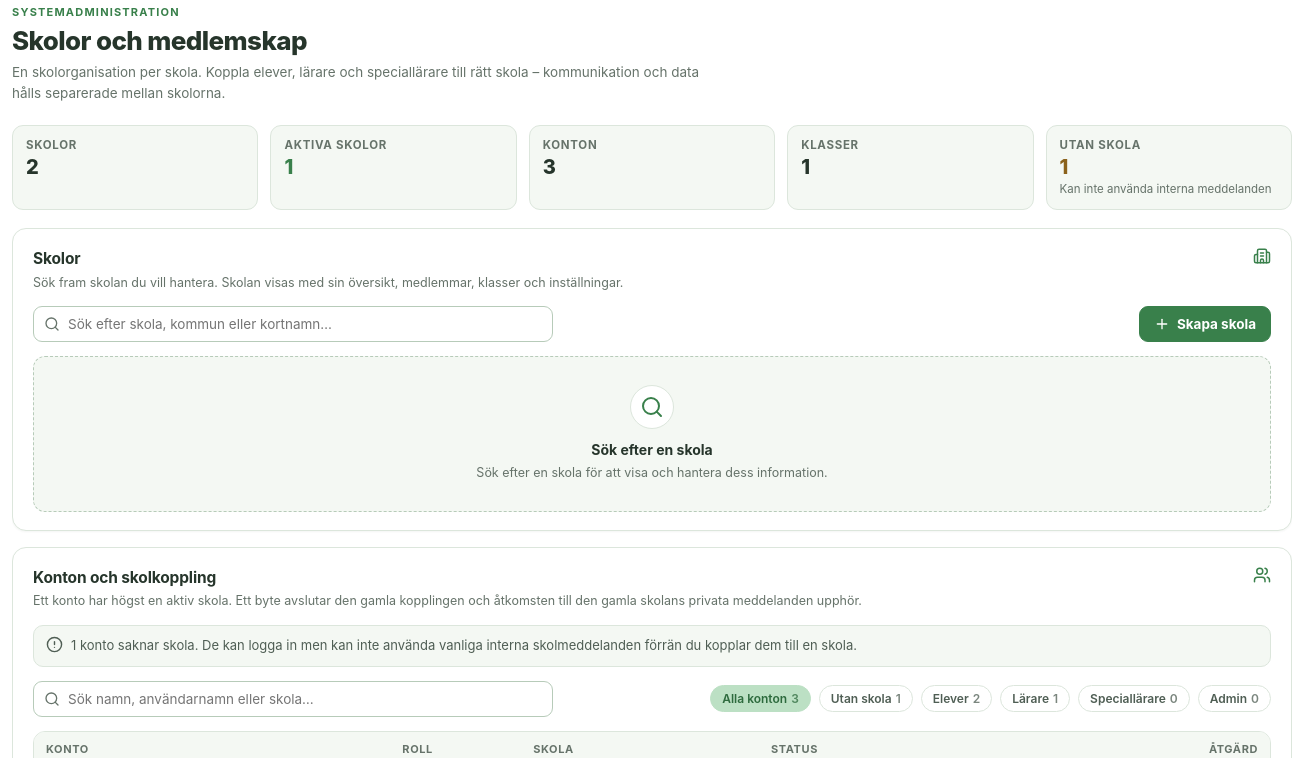
Scenario: AdminOrganisations › söker fram skola på namn och kommun
Expected: the heading "Sök efter en skola" is shown, [591,441,713,458]
Step 1. Type "karlskrona" into the search field named "Sök skola" → point(305, 324), box [68,307,542,341]
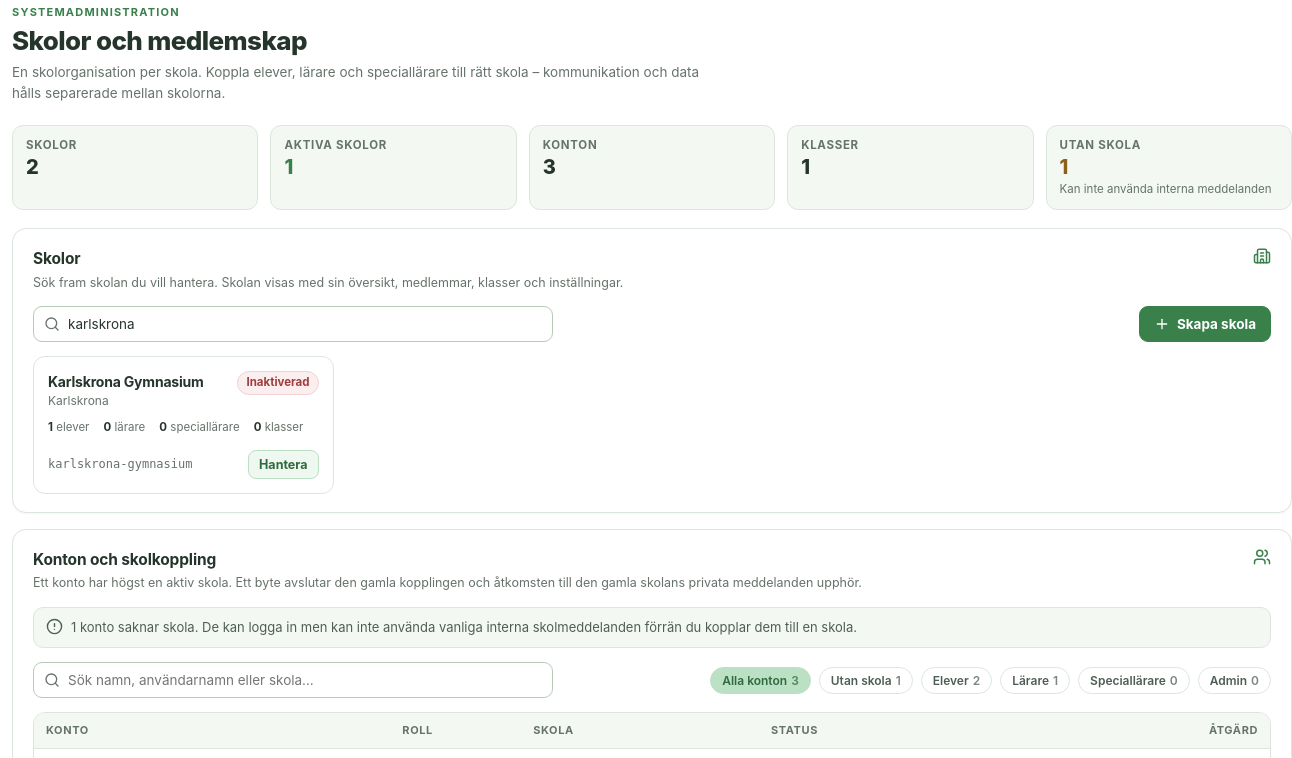
Expected: the number of elements with class "org-card" is 1, [33,356,334,494]
Expected: the heading "Karlskrona Gymnasium" is shown, [48,371,204,392]
Expected: the text "Karlskrona" is shown, [48,393,109,408]
